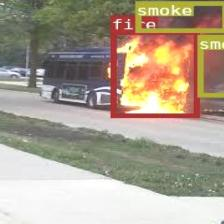fire: (110, 30, 197, 117)
smoke: (134, 0, 224, 31), (196, 35, 224, 96)
